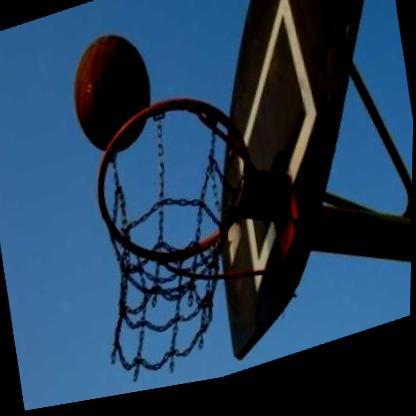basketball: (61, 16, 166, 170)
